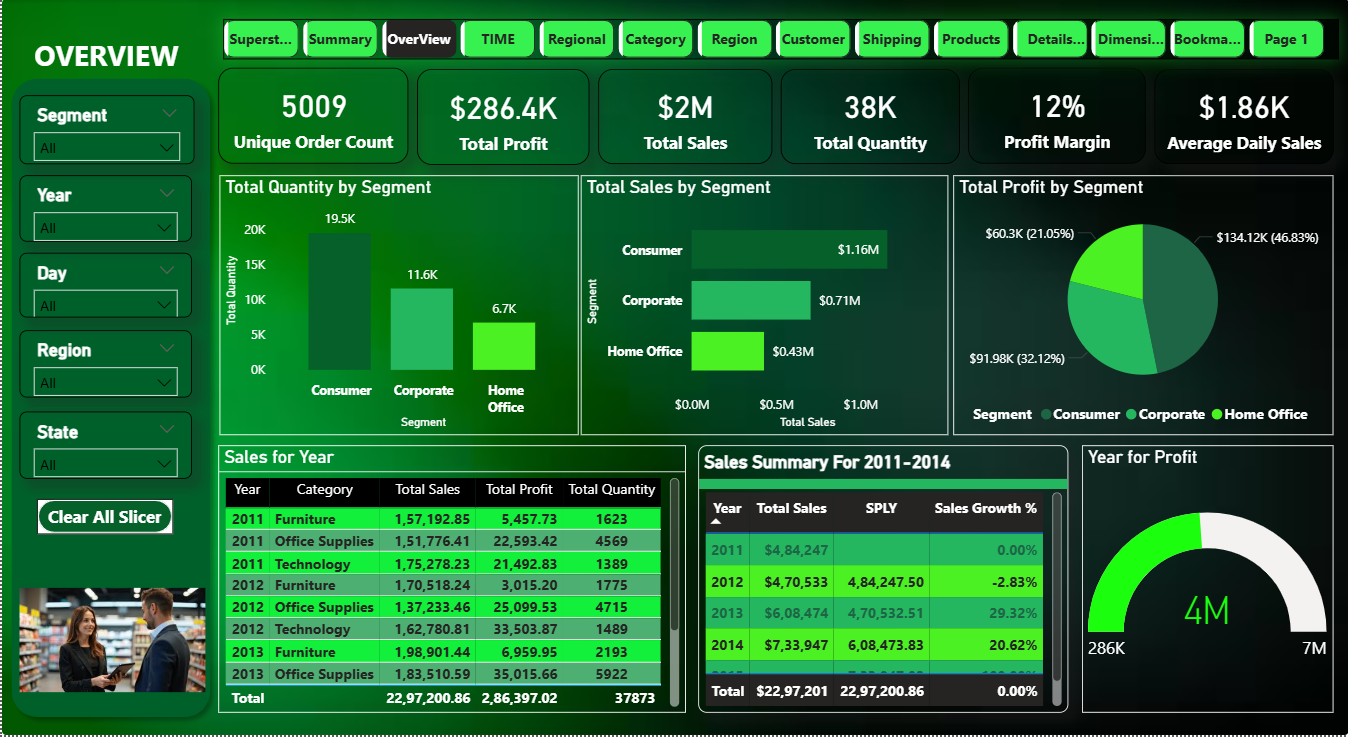

What the dashboard file says about the page in this screenshot:
{"tool":"powerbi","page":{"name":"OverView","canvas":[1280,700],"ordinal":2},"visuals":[{"type":"image","box":[0,0,1280.4,700.2],"z":0},{"type":"shape","box":[0,66.6,206.9,625.3],"z":1000},{"type":"textbox","box":[26.2,83.2,108.2,44],"z":2000},{"type":"textbox","box":[10.7,29.7,177.1,47.6],"z":3000},{"type":"slicer","fields":{"Values":["Superstore.Segment"]},"box":[16.6,91.5,166.4,65.4],"z":4000},{"type":"slicer","fields":{"Values":["Superstore.Region"]},"box":[16.6,315,164.1,64.2],"z":5000},{"type":"shape","box":[33.3,475.5,129.6,33.3],"z":6000},{"type":"card","fields":{"Values":["All measures.Unique Order Count"]},"box":[205.7,65.4,180.7,91.5],"z":7000},{"type":"card","fields":{"Values":["All measures.Total Sales"]},"box":[567.1,66.6,165.3,90.4],"z":8000},{"type":"card","fields":{"Values":["All measures.Total Quantity"]},"box":[740.7,66.6,170,90.4],"z":9000},{"type":"card","fields":{"Values":["All measures.Profit Margin"]},"box":[919,65.4,168.8,91.5],"z":10000},{"type":"card","fields":{"Values":["All measures.Totol Profit"]},"box":[394.7,66.6,164.1,91.5],"z":11000},{"type":"columnChart","fields":{"Category":["Superstore.Segment"],"Y":["All measures.Total Quantity"]},"box":[206.9,167.6,341.2,247.3],"z":12000},{"type":"clusteredBarChart","fields":{"Category":["Superstore.Segment"],"Y":["All measures.Total Sales"]},"box":[550.4,167.6,349.5,247.3],"z":13000},{"type":"pieChart","fields":{"Category":["Superstore.Segment"],"Y":["All measures.Totol Profit"]},"box":[904.7,167.6,361.4,247.3],"z":14000},{"type":"card","fields":{"Values":["All measures.Average Daily Sales"]},"box":[1096.1,66.6,170,90.4],"z":15000},{"type":"tableEx","title":"Sales Summary For 2011-2014","fields":{"Values":["date_table.Year","All measures.Total Sales","All measures.Previous_year_sales","All measures.Sales Growth %"]},"box":[662.2,424.4,351.9,254.4],"z":16000},{"type":"image","box":[16.6,548.1,177.1,123.6],"z":17000},{"type":"slicer","fields":{"Values":["date_table.Year"]},"box":[16.6,167.6,164.1,63],"z":18000},{"type":"slicer","fields":{"Values":["date_table.Day"]},"box":[16.6,241.3,164.1,61.8],"z":19000},{"type":"tableEx","fields":{"Values":["date_table.Year","Superstore.Category","Sum(Superstore.Sales)","Sum(Superstore.Profit)","Sum(Superstore.Quantity)"]},"box":[205.7,424.4,444.6,254.4],"z":20000},{"type":"gauge","fields":{"MinValue":["Sum(Superstore.Profit)"],"Y":["Sum(date_table.Year)"]},"box":[1027.2,424.4,239,254.4],"z":21000},{"type":"slicer","fields":{"Values":["Superstore.State"]},"box":[16.6,392.3,164.1,64.2],"z":22000},{"type":"pageNavigator","box":[210.4,19,1060.5,38],"z":23000}]}

Visuals, with their boxes in screenshot pixels (x1, y1, x2, y2), scaled from the page's 1280x700 canvas onto the 1348x737 screenshot:
image: {"x1": 0, "y1": 0, "x2": 1347, "y2": 736}
shape: {"x1": 0, "y1": 70, "x2": 218, "y2": 728}
textbox: {"x1": 28, "y1": 88, "x2": 142, "y2": 134}
textbox: {"x1": 11, "y1": 31, "x2": 198, "y2": 81}
slicer - Superstore.Segment: {"x1": 17, "y1": 96, "x2": 193, "y2": 165}
slicer - Superstore.Region: {"x1": 17, "y1": 332, "x2": 190, "y2": 399}
shape: {"x1": 35, "y1": 501, "x2": 172, "y2": 536}
card - All measures.Unique Order Count: {"x1": 217, "y1": 69, "x2": 407, "y2": 165}
card - All measures.Total Sales: {"x1": 597, "y1": 70, "x2": 771, "y2": 165}
card - All measures.Total Quantity: {"x1": 780, "y1": 70, "x2": 959, "y2": 165}
card - All measures.Profit Margin: {"x1": 968, "y1": 69, "x2": 1146, "y2": 165}
card - All measures.Totol Profit: {"x1": 416, "y1": 70, "x2": 588, "y2": 166}
columnChart - Superstore.Segment x All measures.Total Quantity: {"x1": 218, "y1": 176, "x2": 577, "y2": 437}
clusteredBarChart - Superstore.Segment x All measures.Total Sales: {"x1": 580, "y1": 176, "x2": 948, "y2": 437}
pieChart - Superstore.Segment x All measures.Totol Profit: {"x1": 953, "y1": 176, "x2": 1333, "y2": 437}
card - All measures.Average Daily Sales: {"x1": 1154, "y1": 70, "x2": 1333, "y2": 165}
"Sales Summary For 2011-2014" tableEx: {"x1": 697, "y1": 447, "x2": 1068, "y2": 715}
image: {"x1": 17, "y1": 577, "x2": 204, "y2": 707}
slicer - date_table.Year: {"x1": 17, "y1": 176, "x2": 190, "y2": 243}
slicer - date_table.Day: {"x1": 17, "y1": 254, "x2": 190, "y2": 319}
tableEx - date_table.Year x Superstore.Category: {"x1": 217, "y1": 447, "x2": 685, "y2": 715}
gauge - Sum(Superstore.Profit) x Sum(date_table.Year): {"x1": 1082, "y1": 447, "x2": 1333, "y2": 715}
slicer - Superstore.State: {"x1": 17, "y1": 413, "x2": 190, "y2": 481}
pageNavigator: {"x1": 222, "y1": 20, "x2": 1338, "y2": 60}
